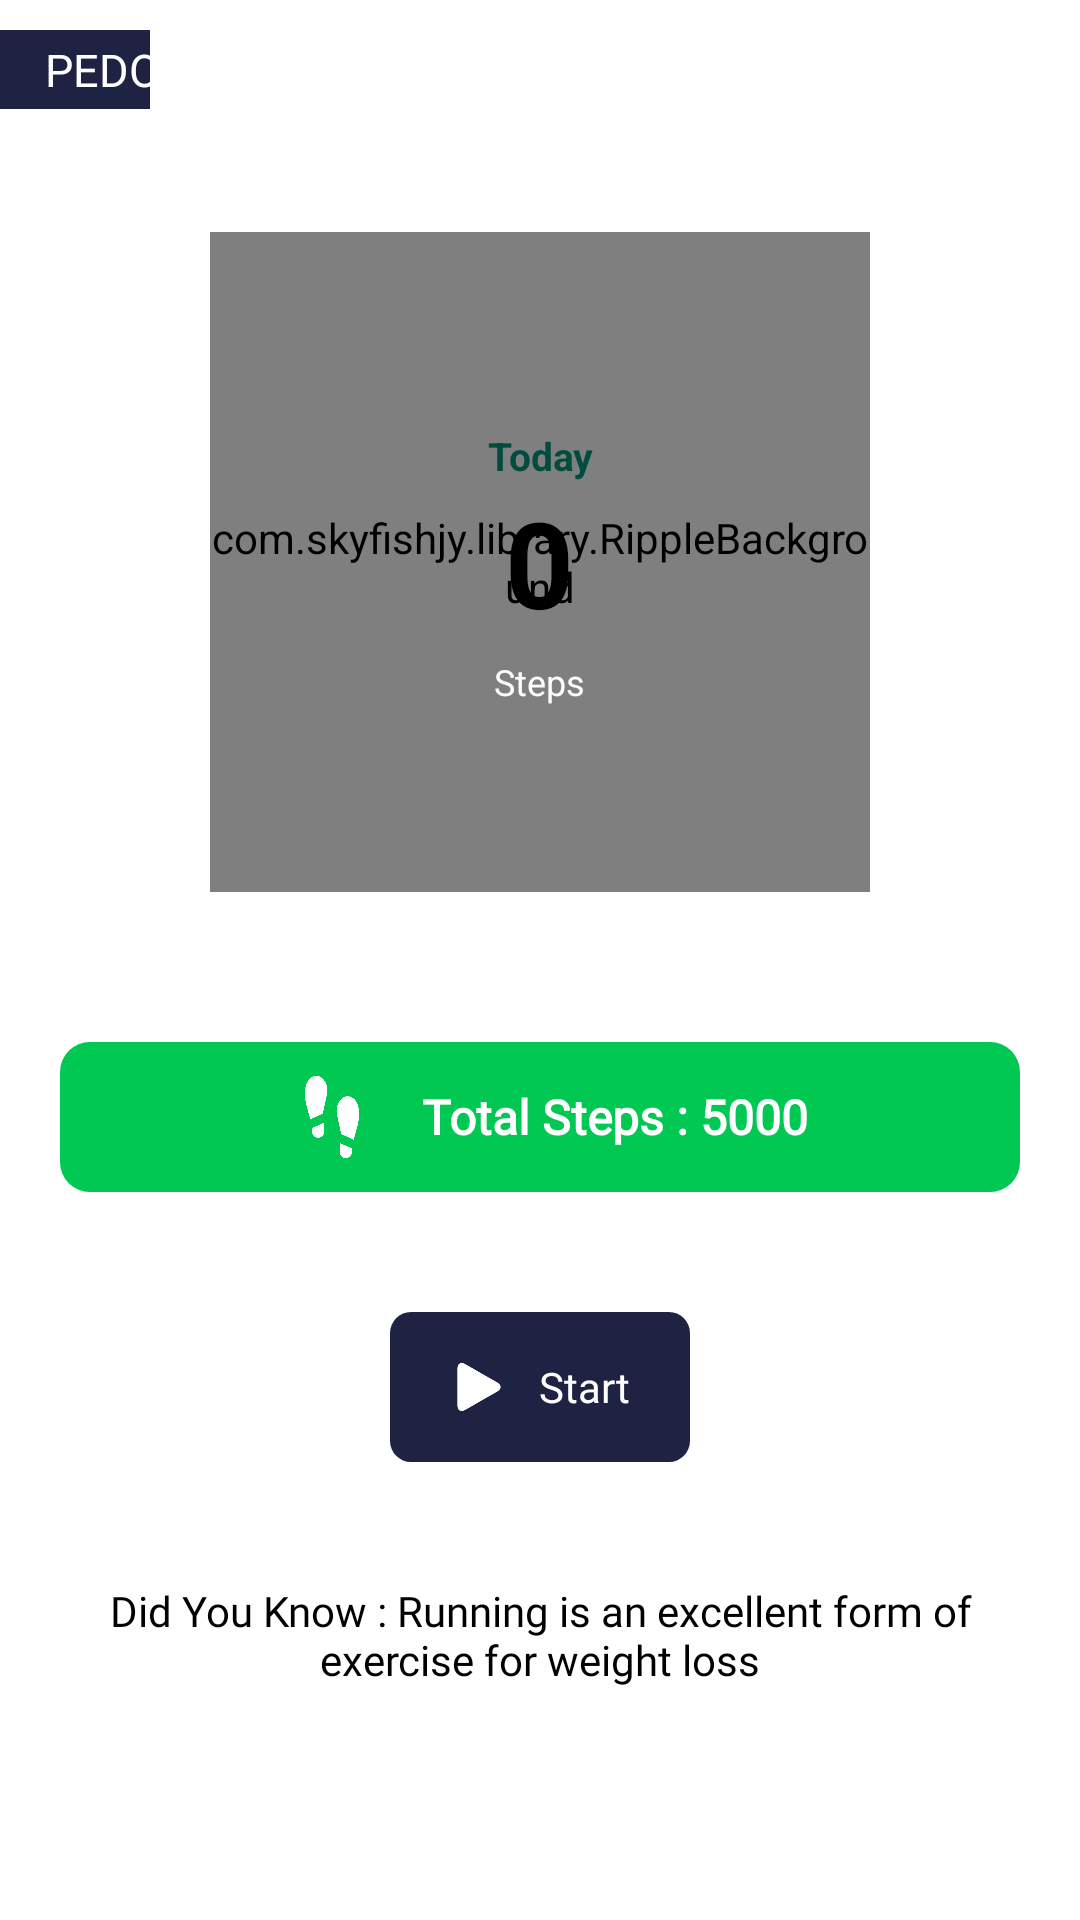

Icons on this 1080 × 1920 Android screen, each with the point to tap as (x=x, y=y):
footprints: (x=332, y=1117)
